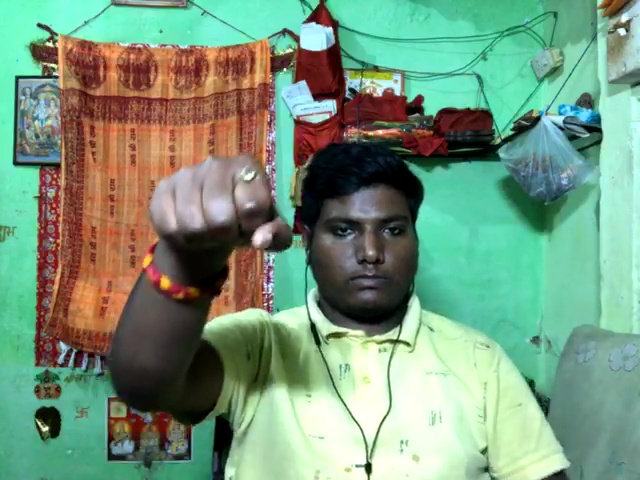Yes: (123, 148, 302, 304)
